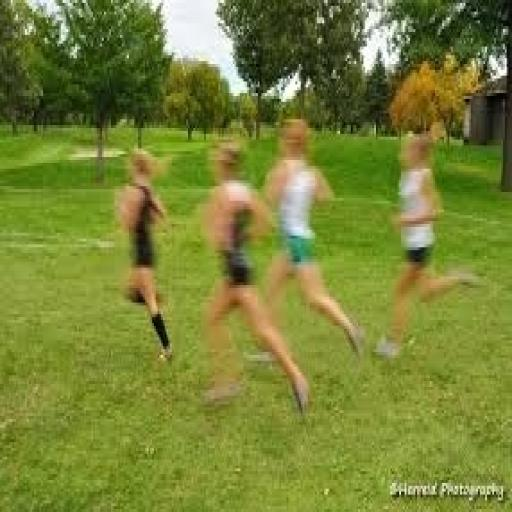running: (195, 134, 313, 419), (249, 114, 369, 370), (111, 142, 177, 366)
